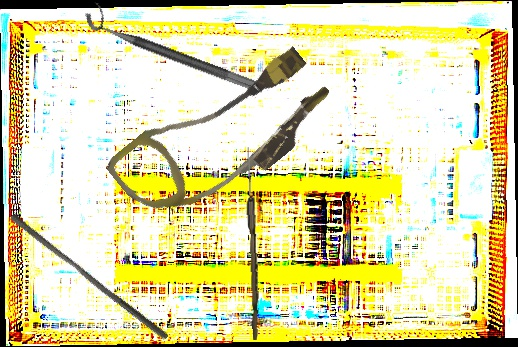Cannula: (103, 25, 343, 248)
Fixation Ring: (80, 0, 271, 95)
Pusher: (5, 212, 174, 341)
Surgical Spoon: (242, 146, 263, 341)
